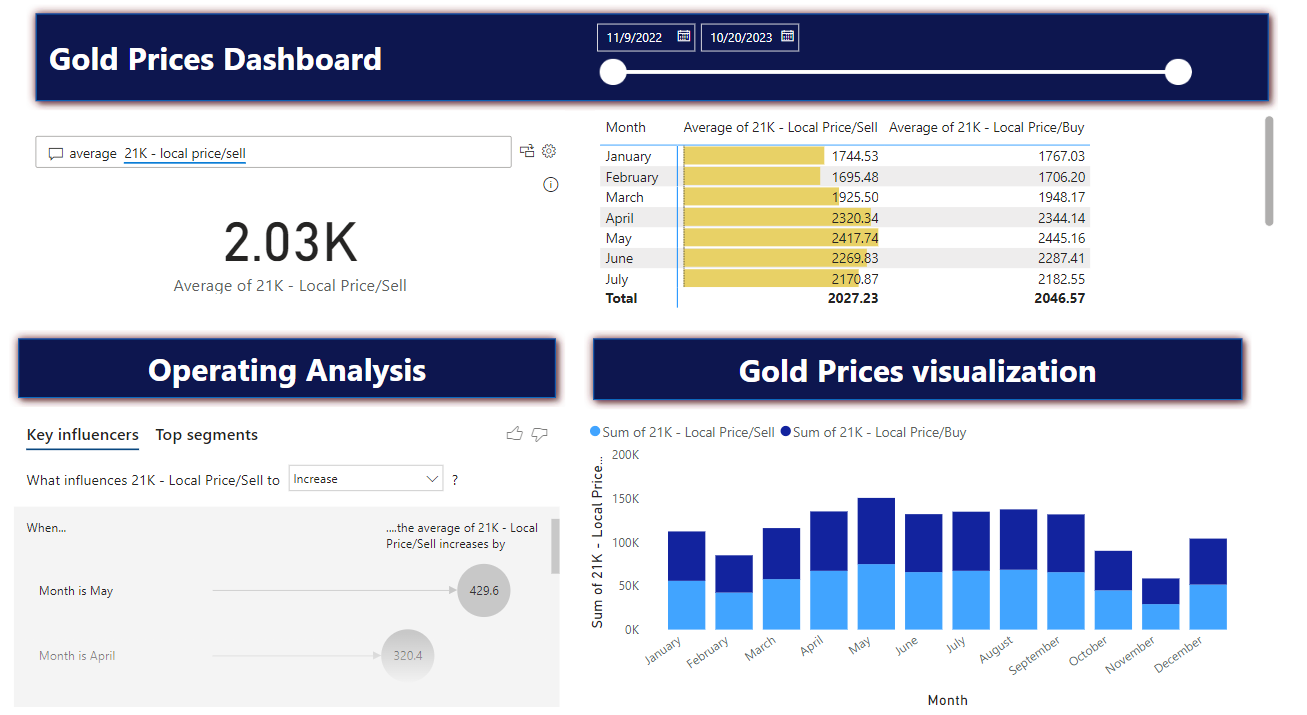

The dashboard page shown, as its layout file describes it:
{"tool":"powerbi","page":{"name":"Page 1","canvas":[1280,720],"ordinal":0},"visuals":[{"type":"shape","box":[27.5,16.2,1223.8,103.8],"z":0},{"type":"shape","box":[10,333.8,543.8,76.2],"z":1000},{"type":"shape","box":[572.1,333.7,652.8,78.2],"z":2000},{"type":"qnaVisual","box":[27.5,120,526.2,197.5],"z":3000},{"type":"keyDriversVisual","fields":{"ExplainBy":["data.Date.Variation.Date Hierarchy.Month"],"Target":["data.21K - Local Price/Sell"]},"box":[10,412.5,543.8,296.2],"z":4000},{"type":"pivotTable","fields":{"Rows":["data.Date.Variation.Date Hierarchy.Month"],"Values":["Avg(data.21K - Local Price/Sell)","Avg(data.21K - Local Price/Buy)"]},"box":[582.5,120,668.8,197.5],"z":5000},{"type":"slicer","fields":{"Values":["data.Date"]},"box":[572.5,25,615,80],"z":6000},{"type":"columnChart","fields":{"Y":["Sum(data.21K - Local Price/Sell)","Sum(data.21K - Local Price/Buy)"],"Category":["data.Date.Variation.Date Hierarchy.Month"]},"box":[572,413,653,296],"z":7000}]}

Visuals, with their boxes in screenshot pixels (x1, y1, x2, y2), scaled from the page's 1280x720 canvas onto the 1307x715 screenshot:
shape: Rect(28, 16, 1278, 119)
shape: Rect(10, 331, 565, 407)
shape: Rect(584, 331, 1251, 409)
qnaVisual: Rect(28, 119, 565, 315)
keyDriversVisual - data.Date.Variation.Date Hierarchy.Month x data.21K - Local Price/Sell: Rect(10, 410, 565, 704)
pivotTable - data.Date.Variation.Date Hierarchy.Month x Avg(data.21K - Local Price/Sell): Rect(595, 119, 1278, 315)
slicer - data.Date: Rect(585, 25, 1213, 104)
columnChart - Sum(data.21K - Local Price/Sell) x Sum(data.21K - Local Price/Buy): Rect(584, 410, 1251, 704)
